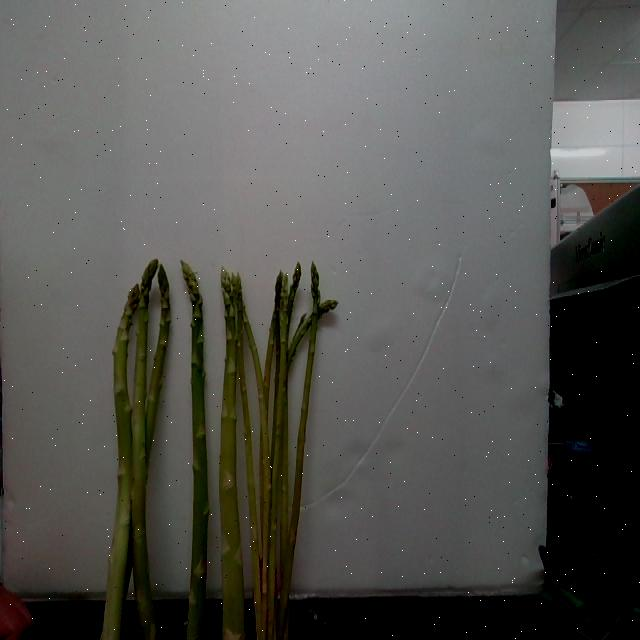aspargus: (99, 282, 141, 640), (179, 261, 210, 640), (219, 259, 246, 640)
